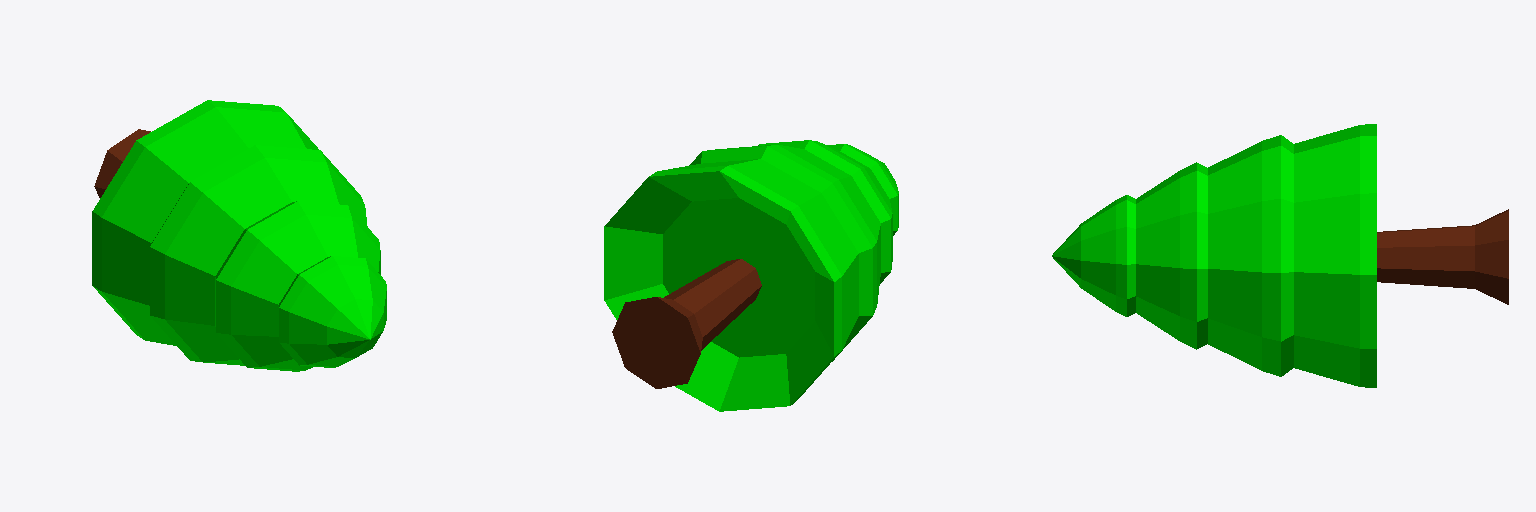
The picture shows the model from 3 angles: view 1: azimuth 30°, elevation 25°; view 2: azimuth 150°, elevation 25°; view 3: azimuth 270°, elevation 25°; orthographic projection.
Visible parts, largest first — view 1: cam.agaci_Scene; view 2: cam.agaci_Scene; view 3: cam.agaci_Scene.
Part boxes in pixels (bbox=[...]): cam.agaci_Scene: bbox=[92, 100, 386, 371]; cam.agaci_Scene: bbox=[604, 140, 898, 411]; cam.agaci_Scene: bbox=[1052, 124, 1508, 387].
Size of the model in its own units: 1.97 by 1.97 by 3.4.
Materials: 1 (1 with a texture image).